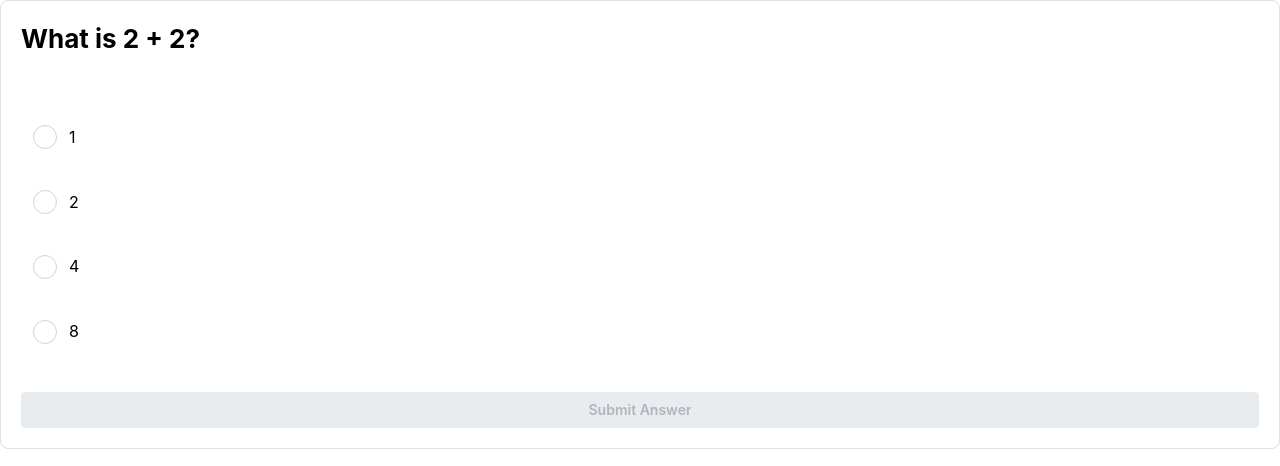
it: QuizQuestion › enables the Submit Answer button after an option is selected
What coordinates should you click on to do the following:
click the radio button labelled "4"
I would click on:
 (45, 267)
Its box is [33,255,57,279].
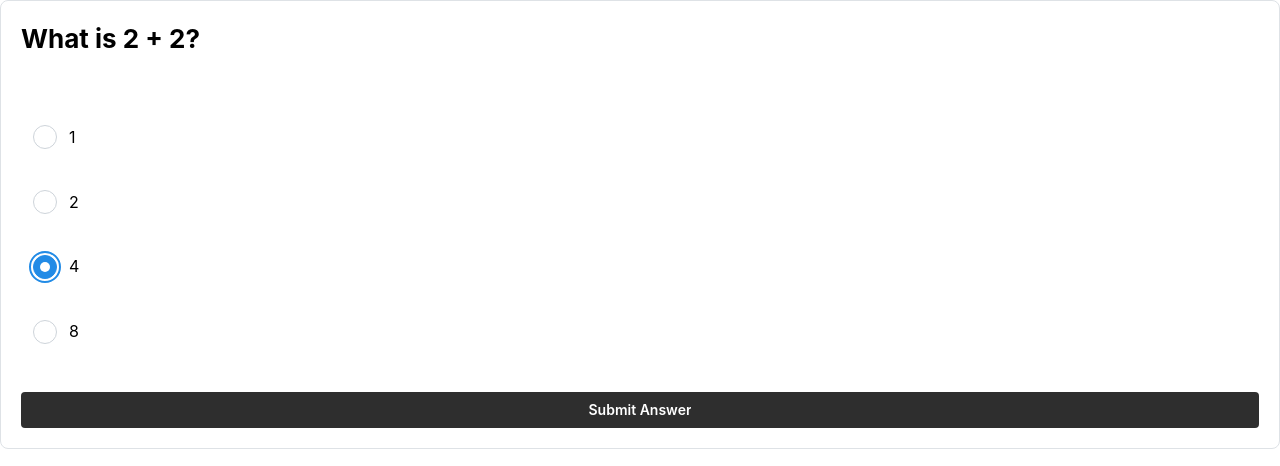
Result: the button "Submit Answer" is enabled at [21,392,1259,428]
